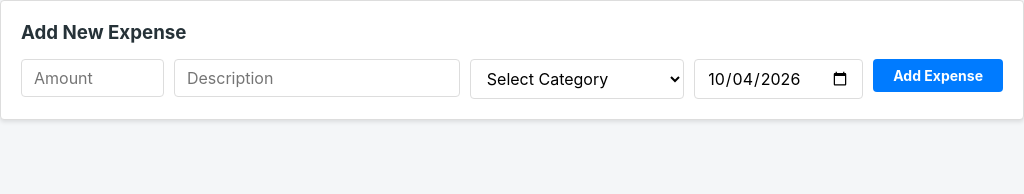
Test: ExpenseForm › submits normalized expense details and shows success
Type "25.50" into the number field with placeholder "Amount". click: (92, 78)
box: [21,59,164,97]
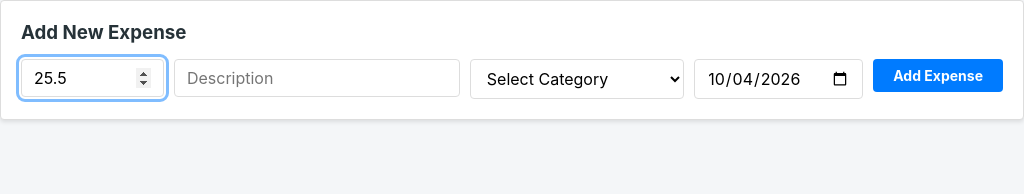
Type "  Lunch  " into the field with placeholder "Description". click: (317, 78)
box: [174,59,460,97]
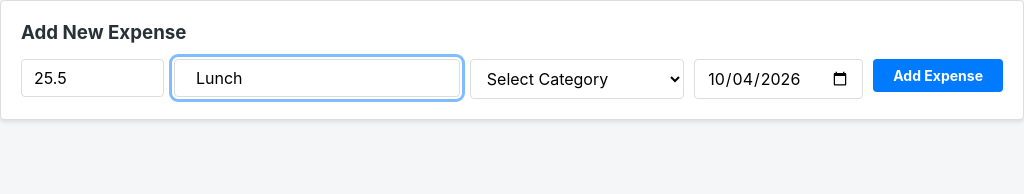
Select "Food" in the dropdown. click: (577, 79)
box: [470,59,684,99]
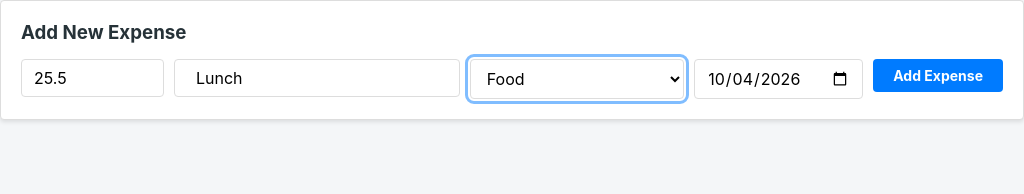
Click the button "Add Expense". click: (938, 76)
box: [873,59,1003,92]
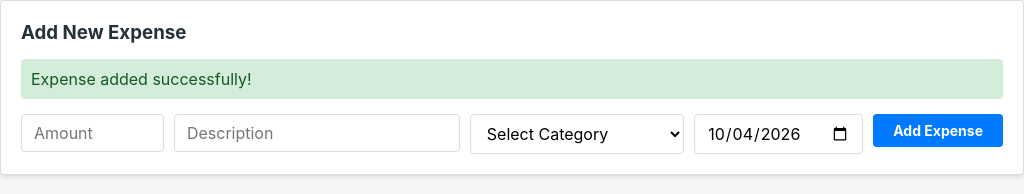
Now the text "Expense added successfully!" is shown, box [21,59,1003,99]
